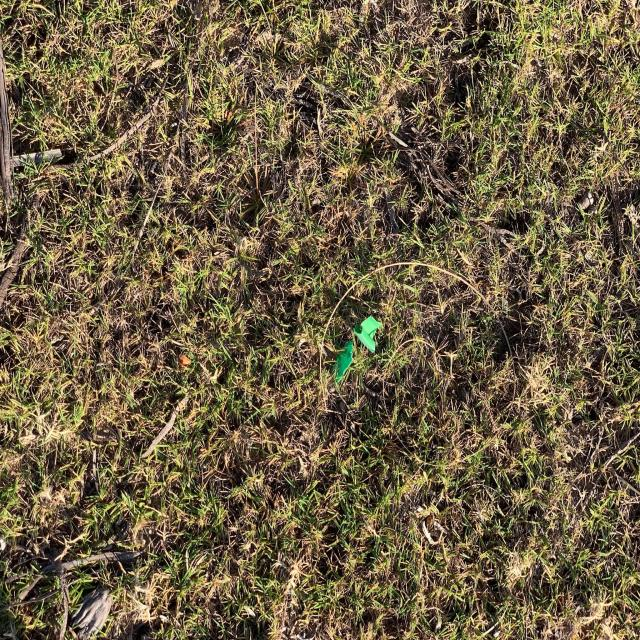litter: (353, 315, 382, 352), (330, 339, 353, 382)
